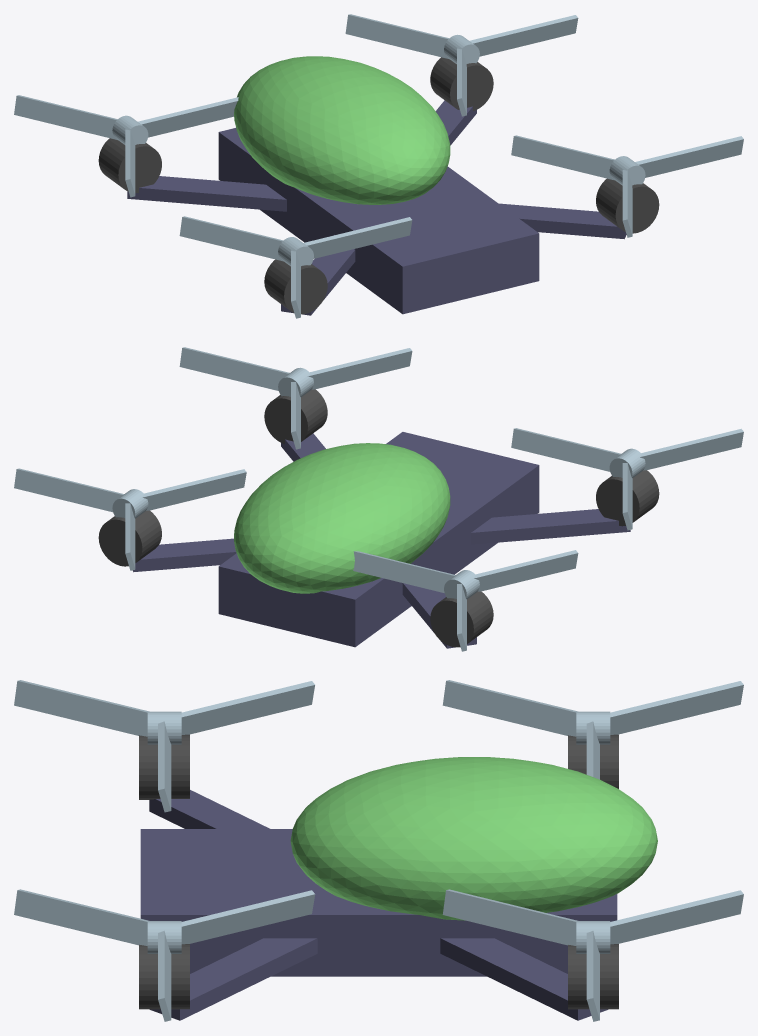
The model's file is Neato Fastback.glb.
3 renders of one model, top to bottom at view 1: azimuth 30°, elevation 25°; view 2: azimuth 150°, elevation 25°; view 3: azimuth 270°, elevation 25°, orthographic. The views are drawn at different scales.
Visible parts, largest first — view 1: canopy, frame_body, prop_0, prop_2, prop_1, prop_3, arm_3, arm_0, motor_0, motor_2, motor_3, motor_1 (+2 smaller); view 2: canopy, frame_body, prop_1, prop_2, prop_0, prop_3, arm_2, arm_1, motor_1, motor_3, motor_2, motor_0 (+2 smaller); view 3: canopy, frame_body, prop_2, prop_0, prop_1, prop_3, arm_1, arm_0, arm_2, motor_0, motor_1, motor_2 (+1 smaller).
Boxes of the visible parts, bbox=[...] form: canopy: bbox=[234, 56, 450, 204]; frame_body: bbox=[218, 128, 539, 314]; prop_0: bbox=[511, 135, 743, 237]; prop_2: bbox=[179, 216, 412, 318]; prop_1: bbox=[345, 14, 578, 116]; prop_3: bbox=[14, 95, 238, 197]; arm_3: bbox=[127, 176, 286, 211]; arm_0: bbox=[499, 203, 626, 239]; motor_0: bbox=[596, 178, 659, 233]; motor_2: bbox=[264, 259, 327, 314]; motor_3: bbox=[98, 138, 161, 193]; motor_1: bbox=[430, 57, 493, 110]; canopy: bbox=[234, 443, 450, 593]; frame_body: bbox=[218, 432, 539, 647]; prop_1: bbox=[14, 468, 246, 570]; prop_2: bbox=[511, 428, 743, 530]; prop_0: bbox=[179, 347, 412, 449]; prop_3: bbox=[353, 550, 578, 651]; arm_2: bbox=[471, 509, 630, 544]; arm_1: bbox=[132, 538, 236, 572]; motor_1: bbox=[98, 510, 161, 566]; motor_3: bbox=[430, 591, 493, 647]; motor_2: bbox=[596, 470, 659, 526]; motor_0: bbox=[264, 389, 327, 443]; canopy: bbox=[290, 757, 657, 920]; frame_body: bbox=[140, 829, 617, 976]; prop_2: bbox=[14, 680, 314, 812]; prop_0: bbox=[14, 889, 315, 1021]; prop_1: bbox=[442, 889, 743, 1021]; prop_3: bbox=[442, 680, 743, 779]; arm_1: bbox=[440, 938, 608, 1020]; arm_0: bbox=[149, 938, 317, 1020]; arm_2: bbox=[149, 790, 269, 828]; motor_0: bbox=[139, 944, 189, 1009]; motor_1: bbox=[568, 944, 618, 1009]; motor_2: bbox=[139, 734, 189, 799].
Size of the model in its own units: 0.2223 by 0.0516 by 0.2145.
